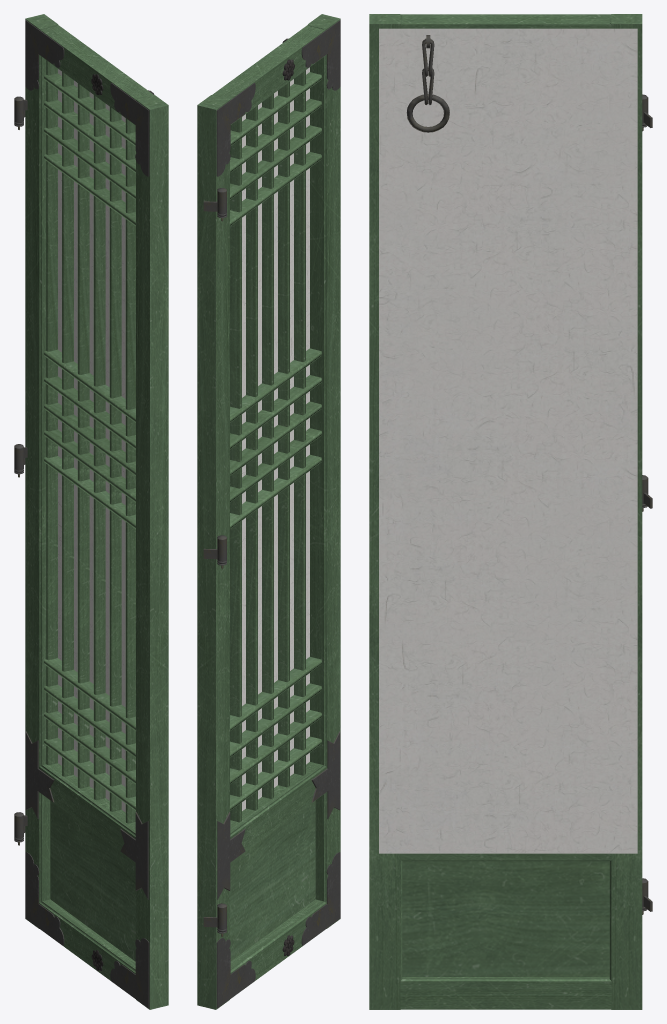
File: SM_Door09F.fbx
3 views of the same model, side by side, from view 1: azimuth 30°, elevation 25°; view 2: azimuth 150°, elevation 25°; view 3: azimuth 270°, elevation 25° (orthographic). The views are drawn at different scales.
Visible parts, largest first — view 1: SM_Door09F; view 2: SM_Door09F; view 3: SM_Door09F.
Boxes of the visible parts, box(x1,y1,x2,y2) form: SM_Door09F: box(14, 14, 168, 1009); SM_Door09F: box(197, 14, 340, 1009); SM_Door09F: box(369, 14, 652, 1009).
Bounding box in the file's own units: 12.05 × 65.09 × 250.
1 material, 1 textured.
